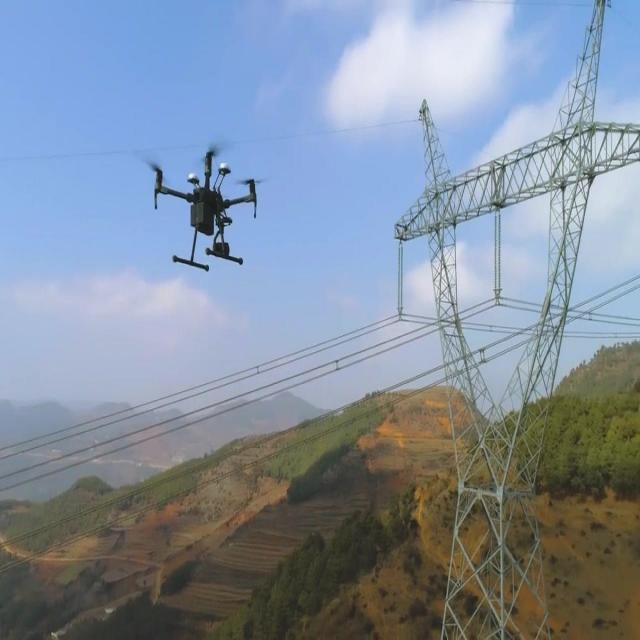UAV: (141, 140, 267, 272)
